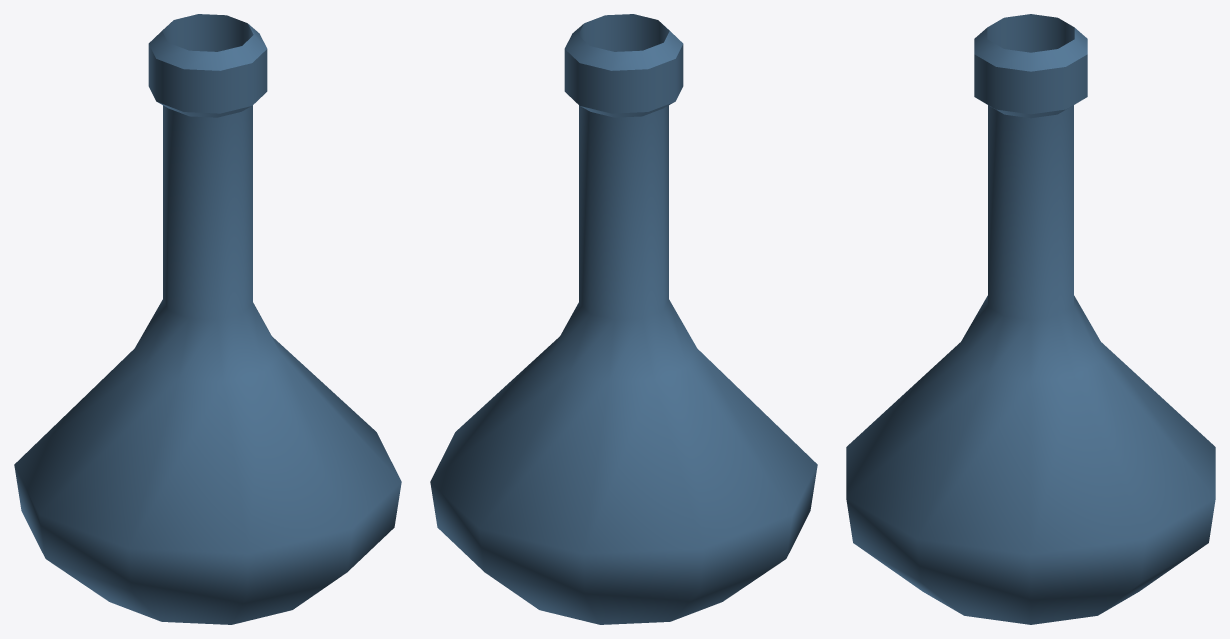
3 renders of one model, left to right at view 1: azimuth 30°, elevation 25°; view 2: azimuth 150°, elevation 25°; view 3: azimuth 270°, elevation 25°, orthographic.
Visible parts, largest first — view 1: Cylinder09; view 2: Cylinder09; view 3: Cylinder09.
Boxes of the visible parts, <box> form: Cylinder09: <box>14,14,401,624</box>; Cylinder09: <box>430,14,817,624</box>; Cylinder09: <box>846,14,1215,624</box>.
Bounding box in the file's own units: 4.57 × 7.05 × 4.35.
